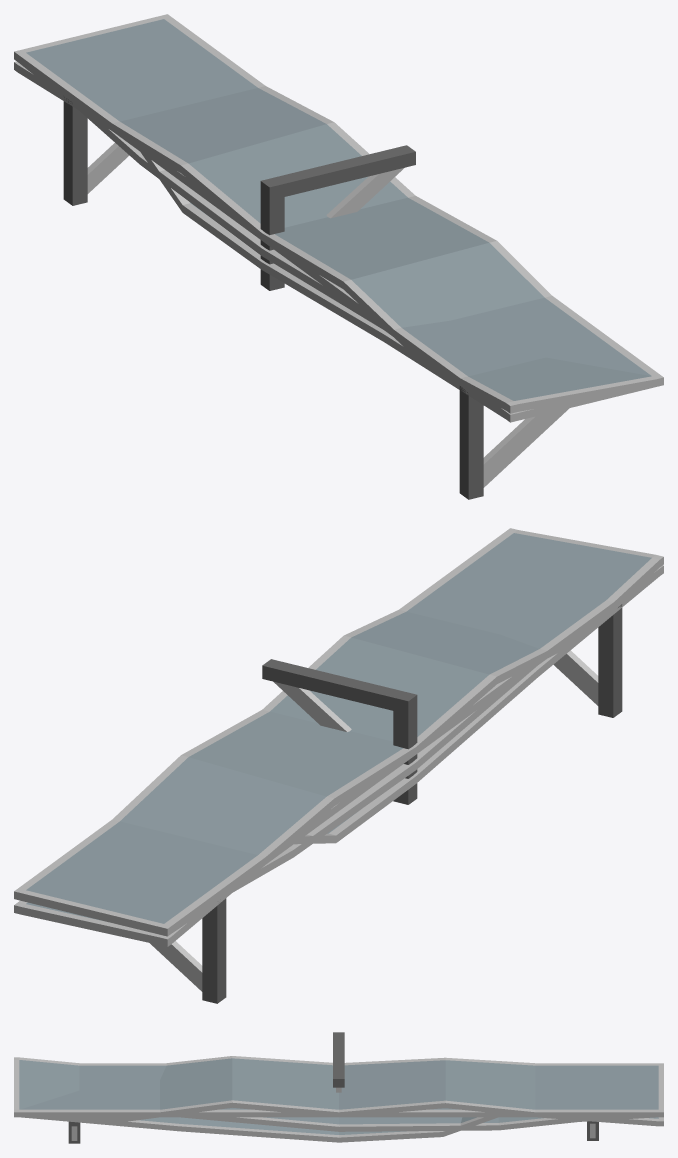
File: IronShelf1.fbx
The picture shows the model from 3 angles, top to bottom: view 1: azimuth 30°, elevation 25°; view 2: azimuth 150°, elevation 25°; view 3: azimuth 270°, elevation 25°; orthographic projection. The views are drawn at different scales.
Visible parts, largest first — view 1: IronShelf1.4, IronShelf1.3, IronShelf1.2, IronShelf1.1, IronShelf1.5; view 2: IronShelf1.4, IronShelf1.3, IronShelf1.2, IronShelf1.1, IronShelf1.5; view 3: IronShelf1.4, IronShelf1.3, IronShelf1.2, IronShelf1.1, IronShelf1.5.
Boxes of the visible parts, box(x1,y1,x2,y2) form: IronShelf1.4: box(14, 61, 663, 413); IronShelf1.3: box(14, 14, 655, 499); IronShelf1.2: box(18, 56, 659, 495); IronShelf1.1: box(18, 17, 659, 417); IronShelf1.5: box(260, 145, 415, 290); IronShelf1.4: box(14, 528, 663, 946); IronShelf1.3: box(14, 565, 663, 1003); IronShelf1.2: box(171, 531, 659, 932); IronShelf1.1: box(18, 531, 659, 930); IronShelf1.5: box(262, 659, 417, 804); IronShelf1.4: box(14, 1056, 663, 1126); IronShelf1.3: box(19, 1063, 663, 1143); IronShelf1.2: box(19, 1063, 658, 1140); IronShelf1.1: box(19, 1063, 658, 1117); IronShelf1.5: box(333, 1032, 344, 1092).
Size of the model in its own units: 47.48 by 48.41 by 266.
